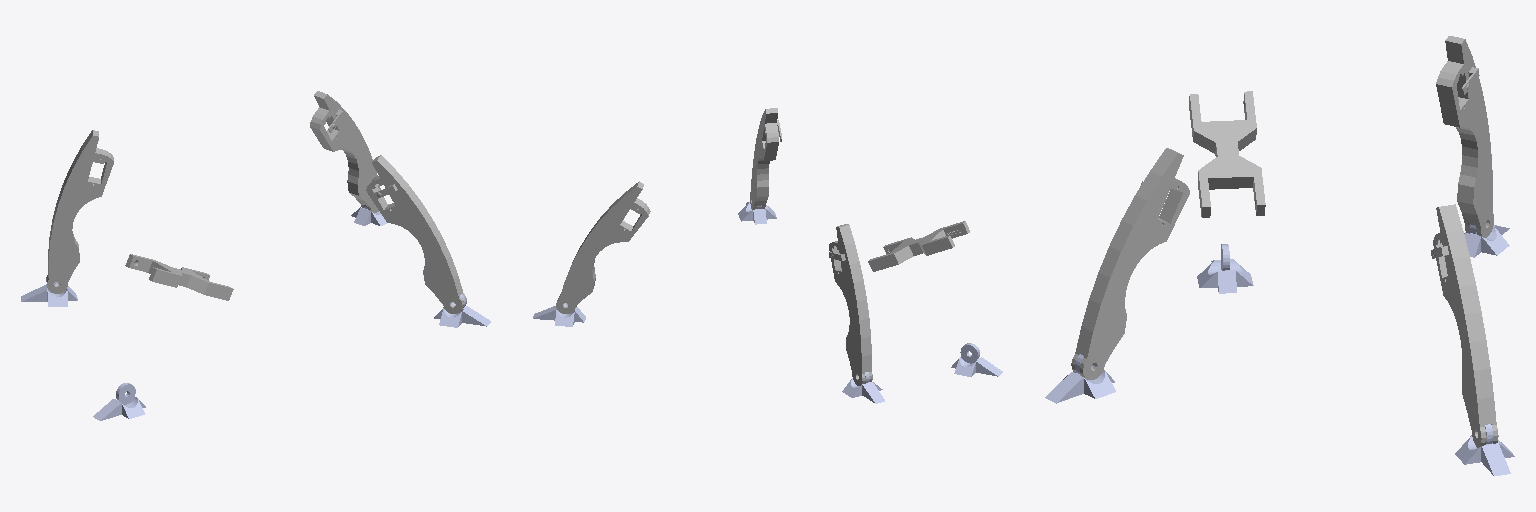
URDF robot description (FullAssemV2_URDF_3):
<?xml version="1.0" encoding="utf-8"?>
<!-- This URDF was automatically created by SolidWorks to URDF Exporter! Originally created by [author] ([email redacted]) 
     Commit Version: 1.5.1-0-g916b5db  Build Version: 1.5.7152.31018
     For more information, please see http://wiki.ros.org/sw_urdf_exporter -->
<robot
  name="FullAssemV2_URDF_3">
  <link
    name="Quadruped">
    <inertial>
      <origin
        xyz="-0.00015378464630996 0.00598310205159659 0.00185432948237904"
        rpy="0 0 0" />
      <mass
        value="0.249804699601231" />
      <inertia
        ixx="0.000270520719875212"
        ixy="-2.90321355093228E-06"
        ixz="9.97177408530921E-07"
        iyy="0.000561265997940236"
        iyz="-1.82799360298991E-06"
        izz="0.000296712584977651" />
    </inertial>
    <visual>
      <origin
        xyz="0 0 0"
        rpy="0 0 0" />
      <geometry>
        <mesh
          filename="package://FullAssemV2_URDF_3/meshes/Quadruped.STL" />
      </geometry>
      <material
        name="">
        <color
          rgba="0.752941176470588 0.752941176470588 0.752941176470588 1" />
      </material>
    </visual>
    <collision>
      <origin
        xyz="0 0 0"
        rpy="0 0 0" />
      <geometry>
        <mesh
          filename="package://FullAssemV2_URDF_3/meshes/Quadruped.STL" />
      </geometry>
    </collision>
  </link>
  <link
    name="Thigh1_Link">
    <inertial>
      <origin
        xyz="-0.0545698403005456 0.0146554345597752 0.00291630819191364"
        rpy="0 0 0" />
      <mass
        value="0.0539963779122503" />
      <inertia
        ixx="1.29584423628135E-05"
        ixy="6.67024632526158E-06"
        ixz="-2.61236518773455E-08"
        iyy="2.291933315844E-05"
        iyz="-2.81821887768504E-08"
        izz="2.49843294571438E-05" />
    </inertial>
    <visual>
      <origin
        xyz="0 0 0"
        rpy="0 0 0" />
      <geometry>
        <mesh
          filename="package://FullAssemV2_URDF_3/meshes/Thigh1_Link.STL" />
      </geometry>
      <material
        name="">
        <color
          rgba="0.752941176470588 0.752941176470588 0.752941176470588 1" />
      </material>
    </visual>
    <collision>
      <origin
        xyz="0 0 0"
        rpy="0 0 0" />
      <geometry>
        <mesh
          filename="package://FullAssemV2_URDF_3/meshes/Thigh1_Link.STL" />
      </geometry>
    </collision>
  </link>
  <joint
    name="Thigh1_Joint"
    type="continuous">
    <origin
      xyz="-0.0390654999999987 -0.0538815367264155 0"
      rpy="1.5707963267949 0 0.0988146875234264" />
    <parent
      link="Quadruped" />
    <child
      link="Thigh1_Link" />
    <axis
      xyz="0 1 0" />
  </joint>
  <link
    name="Shin1_Link">
    <inertial>
      <origin
        xyz="0.0892929753913887 0.000524244558547986 0.124070762240656"
        rpy="0 0 0" />
      <mass
        value="0.0578934425503477" />
      <inertia
        ixx="5.19105333051062E-06"
        ixy="-1.68835425081224E-07"
        ixz="-2.1134891416634E-06"
        iyy="9.84784531286188E-05"
        iyz="-1.0816772532208E-08"
        izz="9.48222239939683E-05" />
    </inertial>
    <visual>
      <origin
        xyz="0 0 0"
        rpy="0 0 0" />
      <geometry>
        <mesh
          filename="package://FullAssemV2_URDF_3/meshes/Shin1_Link.STL" />
      </geometry>
      <material
        name="">
        <color
          rgba="0.752941176470588 0.752941176470588 0.752941176470588 1" />
      </material>
    </visual>
    <collision>
      <origin
        xyz="0 0 0"
        rpy="0 0 0" />
      <geometry>
        <mesh
          filename="package://FullAssemV2_URDF_3/meshes/Shin1_Link.STL" />
      </geometry>
    </collision>
  </link>
  <joint
    name="Shin1_Joint"
    type="continuous">
    <origin
      xyz="0 0.0782262384375112 0"
      rpy="1.5707963267949 0 -1.65926745961856" />
    <parent
      link="Thigh1_Link" />
    <child
      link="Shin1_Link" />
    <axis
      xyz="0.996088981335105 0 -0.0883557653059113" />
  </joint>
  <link
    name="Foot1_Link">
    <inertial>
      <origin
        xyz="-0.0217799060111764 0.141583392875683 0.000158750645011599"
        rpy="0 0 0" />
      <mass
        value="0.00914057897642937" />
      <inertia
        ixx="1.43388059300199E-06"
        ixy="6.66353810967667E-08"
        ixz="1.9161612405122E-14"
        iyy="7.41969158641372E-07"
        iyz="-1.28331133284468E-13"
        izz="1.33502935768451E-06" />
    </inertial>
    <visual>
      <origin
        xyz="0 0 0"
        rpy="0 0 0" />
      <geometry>
        <mesh
          filename="package://FullAssemV2_URDF_3/meshes/Foot1_Link.STL" />
      </geometry>
      <material
        name="">
        <color
          rgba="0.792156862745098 0.819607843137255 0.933333333333333 1" />
      </material>
    </visual>
    <collision>
      <origin
        xyz="0 0 0"
        rpy="0 0 0" />
      <geometry>
        <mesh
          filename="package://FullAssemV2_URDF_3/meshes/Foot1_Link.STL" />
      </geometry>
    </collision>
  </link>
  <joint
    name="foot1_Joint"
    type="continuous">
    <origin
      xyz="0.151338456248319 0 -0.0134241271338217"
      rpy="1.5707963267949 -0.0884711328236603 -3.14159265358979" />
    <parent
      link="Shin1_Link" />
    <child
      link="Foot1_Link" />
    <axis
      xyz="1 0 0" />
  </joint>
  <link
    name="Thigh2_Link">
    <inertial>
      <origin
        xyz="-0.0428381394799166 0.0254412669047211 0.00291630750864779"
        rpy="0 0 0" />
      <mass
        value="0.0539963748679672" />
      <inertia
        ixx="2.40390969188525E-05"
        ixy="5.73769477599079E-06"
        ixz="-2.63824185804164E-08"
        iyy="1.18386784033394E-05"
        iyz="-2.84200309366262E-08"
        izz="2.49843293303803E-05" />
    </inertial>
    <visual>
      <origin
        xyz="0 0 0"
        rpy="0 0 0" />
      <geometry>
        <mesh
          filename="package://FullAssemV2_URDF_3/meshes/Thigh2_Link.STL" />
      </geometry>
      <material
        name="">
        <color
          rgba="0.752941176470588 0.752941176470588 0.752941176470588 1" />
      </material>
    </visual>
    <collision>
      <origin
        xyz="0 0 0"
        rpy="0 0 0" />
      <geometry>
        <mesh
          filename="package://FullAssemV2_URDF_3/meshes/Thigh2_Link.STL" />
      </geometry>
    </collision>
  </link>
  <joint
    name="Thigh2_Joint"
    type="continuous">
    <origin
      xyz="0.0390654999999996 -0.0538815367264143 0"
      rpy="1.57079632679491 0 2.27816521599251" />
    <parent
      link="Quadruped" />
    <child
      link="Thigh2_Link" />
    <axis
      xyz="0 1 0" />
  </joint>
  <link
    name="Shin2_Link">
    <inertial>
      <origin
        xyz="-0.0296585383581865 0.000524244208756353 0.135544012679483"
        rpy="0 0 0" />
      <mass
        value="0.0578934415393017" />
      <inertia
        ixx="5.18978395918255E-06"
        ixy="-1.68960441980538E-07"
        ixz="-2.11274764913103E-06"
        iyy="9.84784530745943E-05"
        iyz="-1.08885281612082E-08"
        izz="9.4823493254292E-05" />
    </inertial>
    <visual>
      <origin
        xyz="0 0 0"
        rpy="0 0 0" />
      <geometry>
        <mesh
          filename="package://FullAssemV2_URDF_3/meshes/Shin2_Link.STL" />
      </geometry>
      <material
        name="">
        <color
          rgba="0.752941176470588 0.752941176470588 0.752941176470588 1" />
      </material>
    </visual>
    <collision>
      <origin
        xyz="0 0 0"
        rpy="0 0 0" />
      <geometry>
        <mesh
          filename="package://FullAssemV2_URDF_3/meshes/Shin2_Link.STL" />
      </geometry>
    </collision>
  </link>
  <joint
    name="Shin2_Joint"
    type="continuous">
    <origin
      xyz="0 -0.0409367652139851 0"
      rpy="1.57079632679491 0 -2.0949535069755" />
    <parent
      link="Thigh2_Link" />
    <child
      link="Shin2_Link" />
    <axis
      xyz="0.865746066487659 0 -0.500483514574801" />
  </joint>
  <link
    name="Foot2_Link">
    <inertial>
      <origin
        xyz="0.00616011444947555 0.147432131326342 0.000158758883308144"
        rpy="0 0 0" />
      <mass
        value="0.00914057905747706" />
      <inertia
        ixx="1.43388058850935E-06"
        ixy="6.66354888171241E-08"
        ixz="9.08725544711791E-14"
        iyy="7.41969157898052E-07"
        iyz="-1.18456942251138E-13"
        izz="1.33502935366218E-06" />
    </inertial>
    <visual>
      <origin
        xyz="0 0 0"
        rpy="0 0 0" />
      <geometry>
        <mesh
          filename="package://FullAssemV2_URDF_3/meshes/Foot2_Link.STL" />
      </geometry>
      <material
        name="">
        <color
          rgba="0.792156862745098 0.819607843137255 0.933333333333333 1" />
      </material>
    </visual>
    <collision>
      <origin
        xyz="0 0 0"
        rpy="0 0 0" />
      <geometry>
        <mesh
          filename="package://FullAssemV2_URDF_3/meshes/Foot2_Link.STL" />
      </geometry>
    </collision>
  </link>
  <joint
    name="Foot2_Joint"
    type="continuous">
    <origin
      xyz="-0.00218582451977871 0 0.0012636143324808"
      rpy="1.57079632679492 -0.524157180180599 3.14159265358976" />
    <parent
      link="Shin2_Link" />
    <child
      link="Foot2_Link" />
    <axis
      xyz="1 0 0" />
  </joint>
  <link
    name="Thigh3_Link">
    <inertial>
      <origin
        xyz="-0.0504817349530855 0.020372992496018 0.00291630787451894"
        rpy="0 0 0" />
      <mass
        value="0.0539963764838059" />
      <inertia
        ixx="1.78639062225316E-05"
        ixy="8.34687134477563E-06"
        ixz="-2.6213829505366E-08"
        iyy="1.80138692073677E-05"
        iyz="-2.83082688021049E-08"
        izz="2.49843294028074E-05" />
    </inertial>
    <visual>
      <origin
        xyz="0 0 0"
        rpy="0 0 0" />
      <geometry>
        <mesh
          filename="package://FullAssemV2_URDF_3/meshes/Thigh3_Link.STL" />
      </geometry>
      <material
        name="">
        <color
          rgba="0.752941176470588 0.752941176470588 0.752941176470588 1" />
      </material>
    </visual>
    <collision>
      <origin
        xyz="0 0 0"
        rpy="0 0 0" />
      <geometry>
        <mesh
          filename="package://FullAssemV2_URDF_3/meshes/Thigh3_Link.STL" />
      </geometry>
    </collision>
  </link>
  <joint
    name="Thigh3_Joint"
    type="continuous">
    <origin
      xyz="0.0394334999999994 0.0534799999999998 0"
      rpy="1.57079632679491 0 -2.78379592383675" />
    <parent
      link="Quadruped" />
    <child
      link="Thigh3_Link" />
    <axis
      xyz="0 1 0" />
  </joint>
  <link
    name="Shin3_Link">
    <inertial>
      <origin
        xyz="-0.0175951991522868 0.000524244133661318 0.161105964255909"
        rpy="0 0 0" />
      <mass
        value="0.0578934409646989" />
      <inertia
        ixx="5.19137301232651E-06"
        ixy="-1.68786390731139E-07"
        ixz="-2.11391528844394E-06"
        iyy="9.84784530531228E-05"
        iyz="-1.08004114953346E-08"
        izz="9.48219041863955E-05" />
    </inertial>
    <visual>
      <origin
        xyz="0 0 0"
        rpy="0 0 0" />
      <geometry>
        <mesh
          filename="package://FullAssemV2_URDF_3/meshes/Shin3_Link.STL" />
      </geometry>
      <material
        name="">
        <color
          rgba="0.752941176470588 0.752941176470588 0.752941176470588 1" />
      </material>
    </visual>
    <collision>
      <origin
        xyz="0 0 0"
        rpy="0 0 0" />
      <geometry>
        <mesh
          filename="package://FullAssemV2_URDF_3/meshes/Shin3_Link.STL" />
      </geometry>
    </collision>
  </link>
  <joint
    name="Shin3_Joint"
    type="continuous">
    <origin
      xyz="0 -0.0617384132830123 0"
      rpy="1.5707963267949 0 -2.08009224333623" />
    <parent
      link="Thigh3_Link" />
    <child
      link="Shin3_Link" />
    <axis
      xyz="0.873088008817442 0 -0.487562640959286" />
  </joint>
  <link
    name="Foot3_Link">
    <inertial>
      <origin
        xyz="0.00616011511678777 0.175922028789006 0.000158757316407208"
        rpy="0 0 0" />
      <mass
        value="0.00914057903727103" />
      <inertia
        ixx="1.43388054325383E-06"
        ixy="6.6635469140512E-08"
        ixz="4.07491870127514E-13"
        iyy="7.41969110605252E-07"
        iyz="-1.34870054994751E-13"
        izz="1.33502935775728E-06" />
    </inertial>
    <visual>
      <origin
        xyz="0 0 0"
        rpy="0 0 0" />
      <geometry>
        <mesh
          filename="package://FullAssemV2_URDF_3/meshes/Foot3_Link.STL" />
      </geometry>
      <material
        name="">
        <color
          rgba="0.792156862745098 0.819607843137255 0.933333333333333 1" />
      </material>
    </visual>
    <collision>
      <origin
        xyz="0 0 0"
        rpy="0 0 0" />
      <geometry>
        <mesh
          filename="package://FullAssemV2_URDF_3/meshes/Foot3_Link.STL" />
      </geometry>
    </collision>
  </link>
  <joint
    name="Foot3_Joint"
    type="continuous">
    <origin
      xyz="-0.00201007945197229 0 0.00112249811730789"
      rpy="1.57079632679489 -0.509295916541321 3.14159265358979" />
    <parent
      link="Shin3_Link" />
    <child
      link="Foot3_Link" />
    <axis
      xyz="1 0 0" />
  </joint>
  <link
    name="Thigh4_Link">
    <inertial>
      <origin
        xyz="-0.0462619802859904 0.0237250553433097 0.00291630755020896"
        rpy="0 0 0" />
      <mass
        value="0.0539963752533572" />
      <inertia
        ixx="2.17558165409712E-05"
        ixy="7.44301495861805E-06"
        ixz="-2.63069177494671E-08"
        iyy="1.41219587840874E-05"
        iyz="-2.83821856933605E-08"
        izz="2.49843293351259E-05" />
    </inertial>
    <visual>
      <origin
        xyz="0 0 0"
        rpy="0 0 0" />
      <geometry>
        <mesh
          filename="package://FullAssemV2_URDF_3/meshes/Thigh4_Link.STL" />
      </geometry>
      <material
        name="">
        <color
          rgba="0.752941176470588 0.752941176470588 0.752941176470588 1" />
      </material>
    </visual>
    <collision>
      <origin
        xyz="0 0 0"
        rpy="0 0 0" />
      <geometry>
        <mesh
          filename="package://FullAssemV2_URDF_3/meshes/Thigh4_Link.STL" />
      </geometry>
    </collision>
  </link>
  <joint
    name="Thigh4_Joint"
    type="continuous">
    <origin
      xyz="-0.0394334999999997 0.053479999999999 0"
      rpy="1.5707963267949 0 -0.472568821474213" />
    <parent
      link="Quadruped" />
    <child
      link="Thigh4_Link" />
    <axis
      xyz="0 1 0" />
  </joint>
  <link
    name="Shin4_Link">
    <inertial>
      <origin
        xyz="-0.0698472098485315 0.000524248300828239 0.125150424787107"
        rpy="0 0 0" />
      <mass
        value="0.0578934415141883" />
      <inertia
        ixx="5.18920740671184E-06"
        ixy="-1.69002634607576E-07"
        ixz="-2.11267767615982E-06"
        iyy="9.84784530913175E-05"
        iyz="-1.0925956967824E-08"
        izz="9.48240698489554E-05" />
    </inertial>
    <visual>
      <origin
        xyz="0 0 0"
        rpy="0 0 0" />
      <geometry>
        <mesh
          filename="package://FullAssemV2_URDF_3/meshes/Shin4_Link.STL" />
      </geometry>
      <material
        name="">
        <color
          rgba="0.752941176470588 0.752941176470588 0.752941176470588 1" />
      </material>
    </visual>
    <collision>
      <origin
        xyz="0 0 0"
        rpy="0 0 0" />
      <geometry>
        <mesh
          filename="package://FullAssemV2_URDF_3/meshes/Shin4_Link.STL" />
      </geometry>
    </collision>
  </link>
  <joint
    name="Shin4_Joint"
    type="continuous">
    <origin
      xyz="0 -0.0589139946836245 0"
      rpy="1.5707963267949 0 -1.8088561420647" />
    <parent
      link="Thigh4_Link" />
    <child
      link="Shin4_Link" />
    <axis
      xyz="0.971797333357456 0 -0.235817605108987" />
  </joint>
  <link
    name="Foot4_Link">
    <inertial>
      <origin
        xyz="0.00616013961085539 0.127708470173728 0.000158743643449085"
        rpy="0 0 0" />
      <mass
        value="0.00914057907848054" />
      <inertia
        ixx="1.43388047627197E-06"
        ixy="6.66354983920582E-08"
        ixz="-7.44155415428041E-13"
        iyy="7.41969046146568E-07"
        iyz="-1.09981926780573E-13"
        izz="1.33502934802945E-06" />
    </inertial>
    <visual>
      <origin
        xyz="0 0 0"
        rpy="0 0 0" />
      <geometry>
        <mesh
          filename="package://FullAssemV2_URDF_3/meshes/Foot4_Link.STL" />
      </geometry>
      <material
        name="">
        <color
          rgba="0.792156862745098 0.819607843137255 0.933333333333333 1" />
      </material>
    </visual>
    <collision>
      <origin
        xyz="0 0 0"
        rpy="0 0 0" />
      <geometry>
        <mesh
          filename="package://FullAssemV2_URDF_3/meshes/Foot4_Link.STL" />
      </geometry>
    </collision>
  </link>
  <joint
    name="Foot4_Joint"
    type="continuous">
    <origin
      xyz="0.00241374299128982 0 -0.000585722014268167"
      rpy="1.5707963267949 -0.238059815269797 3.14159265358978" />
    <parent
      link="Shin4_Link" />
    <child
      link="Foot4_Link" />
    <axis
      xyz="1 0 0" />
  </joint>
</robot>

--- Facts derived from the render (not from the file) ---
Views: 3 orthographic renders of the robot side by side, from view 1: azimuth 30°, elevation 25°; view 2: azimuth 150°, elevation 25°; view 3: azimuth 270°, elevation 25°.
Model FullAssemV2_URDF_3 with 13 links and 12 joints (12 continuous), rooted at Quadruped, posed all joints at 0.
Links seen in each view (by area): view 1: Shin2_Link, Shin4_Link, Shin3_Link, Thigh1_Link, Foot1_Link, Foot2_Link, Foot4_Link; view 2: Shin3_Link, Shin4_Link, Shin2_Link, Thigh1_Link, Foot1_Link, Foot3_Link, Foot4_Link; view 3: Shin2_Link, Shin3_Link, Shin4_Link, Thigh1_Link, Foot1_Link, Foot2_Link, Foot3_Link, Foot4_Link.
Boxes of the visible links, left/top/right/bottom form: Shin2_Link: left=366, top=155, right=466, bottom=313; Shin4_Link: left=46, top=130, right=113, bottom=293; Shin3_Link: left=310, top=91, right=380, bottom=212; Thigh1_Link: left=125, top=254, right=233, bottom=300; Foot1_Link: left=93, top=383, right=145, bottom=420; Foot2_Link: left=434, top=294, right=490, bottom=327; Foot4_Link: left=21, top=277, right=77, bottom=306; Shin3_Link: left=556, top=181, right=650, bottom=313; Shin4_Link: left=829, top=224, right=872, bottom=385; Shin2_Link: left=750, top=108, right=781, bottom=209; Thigh1_Link: left=868, top=221, right=969, bottom=271; Foot1_Link: left=951, top=343, right=1002, bottom=376; Foot3_Link: left=533, top=296, right=585, bottom=326; Foot4_Link: left=842, top=372, right=884, bottom=403; Shin2_Link: left=1071, top=148, right=1189, bottom=379; Shin3_Link: left=1431, top=204, right=1498, bottom=447; Shin4_Link: left=1436, top=36, right=1493, bottom=237; Thigh1_Link: left=1189, top=91, right=1265, bottom=217; Foot1_Link: left=1197, top=244, right=1253, bottom=293; Foot2_Link: left=1045, top=354, right=1115, bottom=403; Foot3_Link: left=1455, top=424, right=1514, bottom=475; Foot4_Link: left=1464, top=224, right=1509, bottom=257.
Bounding box of the posed robot: 0.4488 × 0.3298 × 0.2223 m (x, y, z).
Meshes: 13 distinct files referenced, 8 mesh visuals loaded (8 binary STL); not drawn: 5 (reference not matched to a file when rendering).